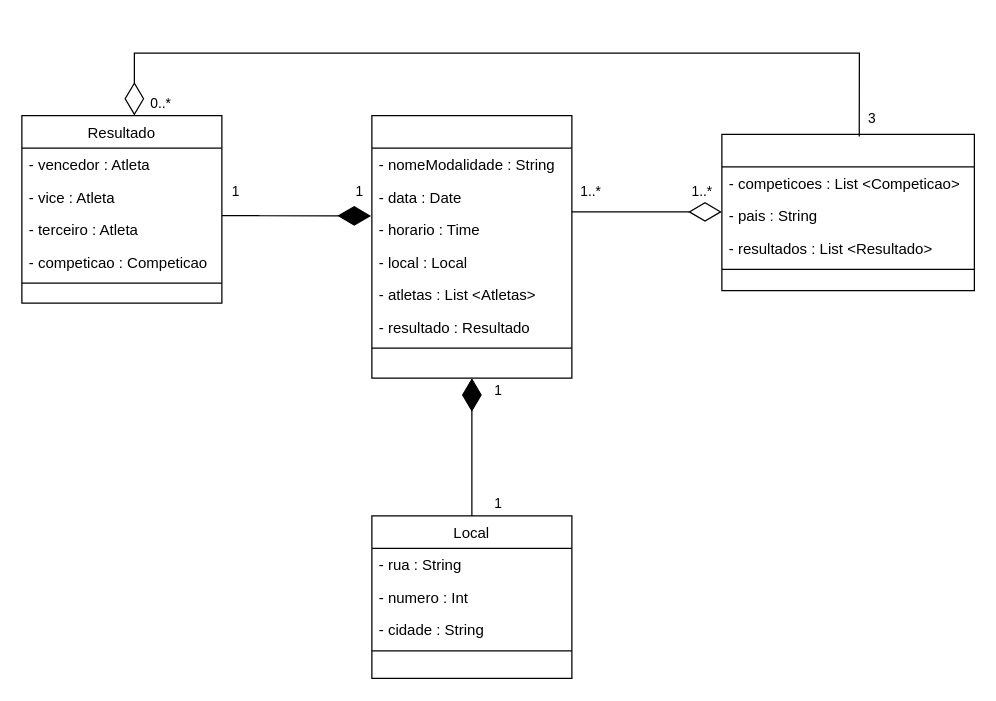
Some shapes in this 996 by 701 pixel diagram are drawn without their labels. The shapes that lost their labels are listed below. From the top down, each one's box as (x1, y1, x2, y2) in pixels, then its label:
(721, 133, 974, 291): Atleta
(371, 114, 572, 378): Competicao
